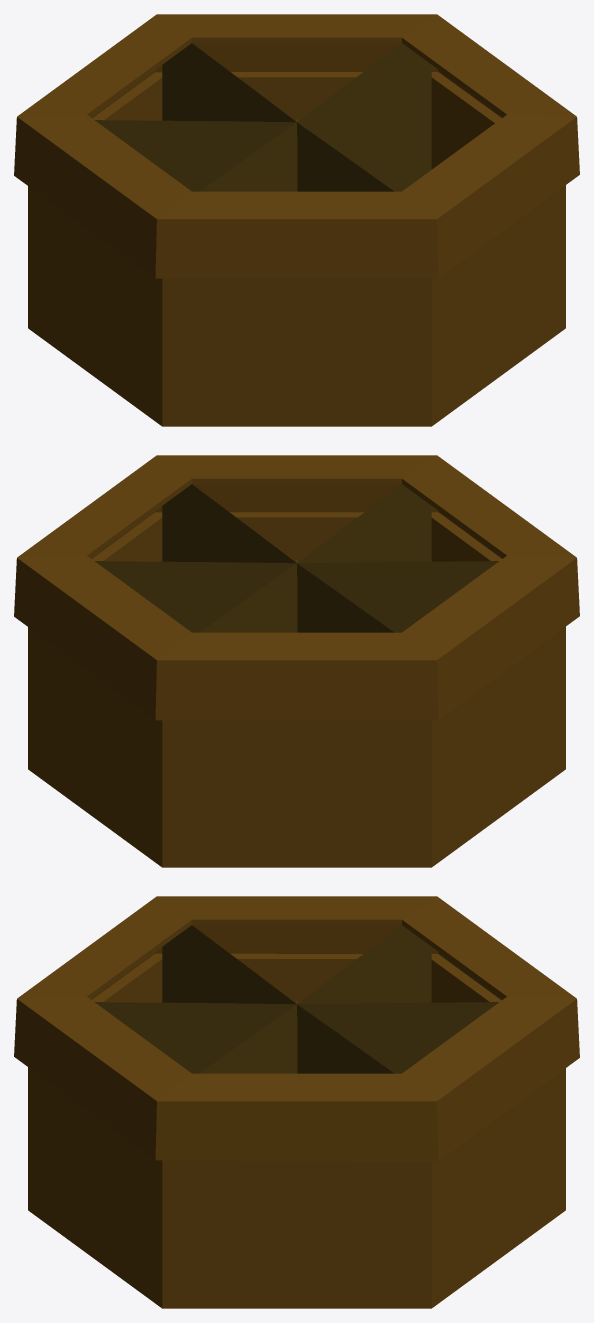
3 views of the same model, one above another, from view 1: azimuth 30°, elevation 25°; view 2: azimuth 150°, elevation 25°; view 3: azimuth 270°, elevation 25° (orthographic).
Parts seen in each view (by area): view 1: Cylinder; view 2: Cylinder; view 3: Cylinder.
Part boxes in pixels (bbox=[...]): Cylinder: bbox=[14, 14, 579, 426]; Cylinder: bbox=[14, 455, 579, 867]; Cylinder: bbox=[14, 896, 579, 1308].
Bounding box in the file's own units: 252 × 121 × 290.
